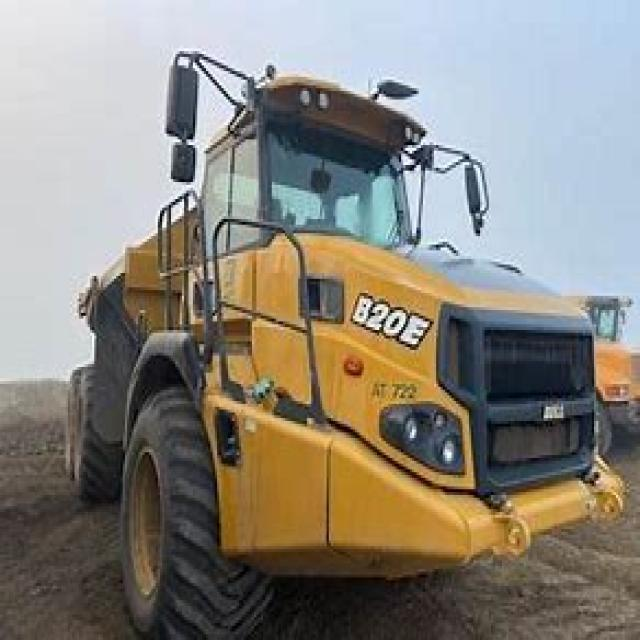dump_truck: (57, 54, 627, 637)
